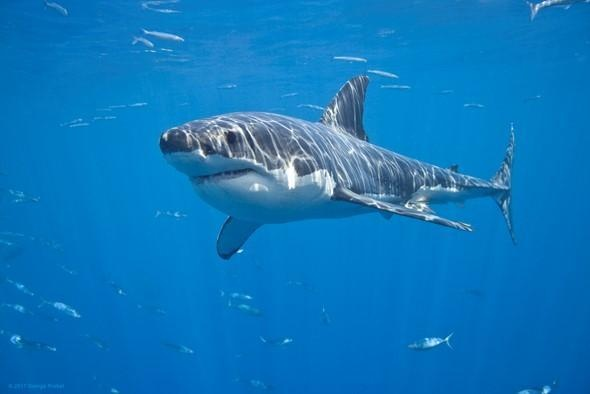fish: (157, 75, 518, 259)
